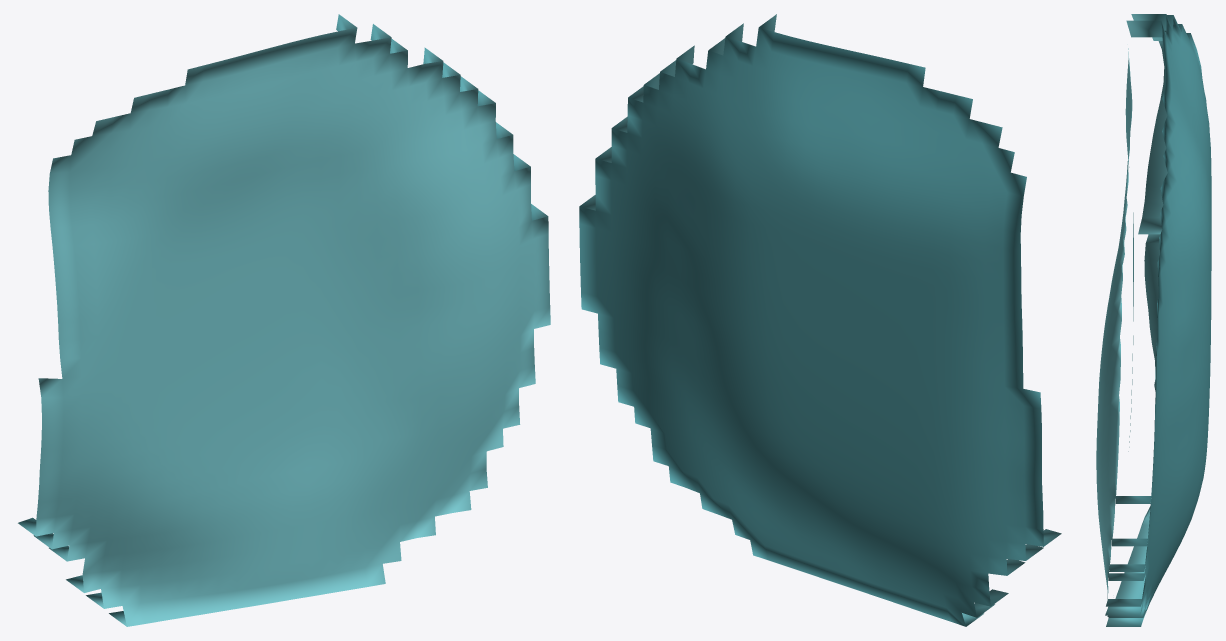
Rendered from PAIR-OFFLOAD-5TH_LEFT_addon.glb.
The picture shows the model from 3 angles, left to right: view 1: azimuth 30°, elevation 25°; view 2: azimuth 150°, elevation 25°; view 3: azimuth 270°, elevation 25°; orthographic projection. The views are drawn at different scales.
Visible parts, largest first — view 1: world; view 2: world; view 3: world.
Boxes of the visible parts, box(x1,y1,x2,y2) form: world: box(18, 14, 550, 626); world: box(579, 14, 1061, 626); world: box(1096, 14, 1211, 626).
Size of the model in its own units: 29 by 31 by 6.22.
